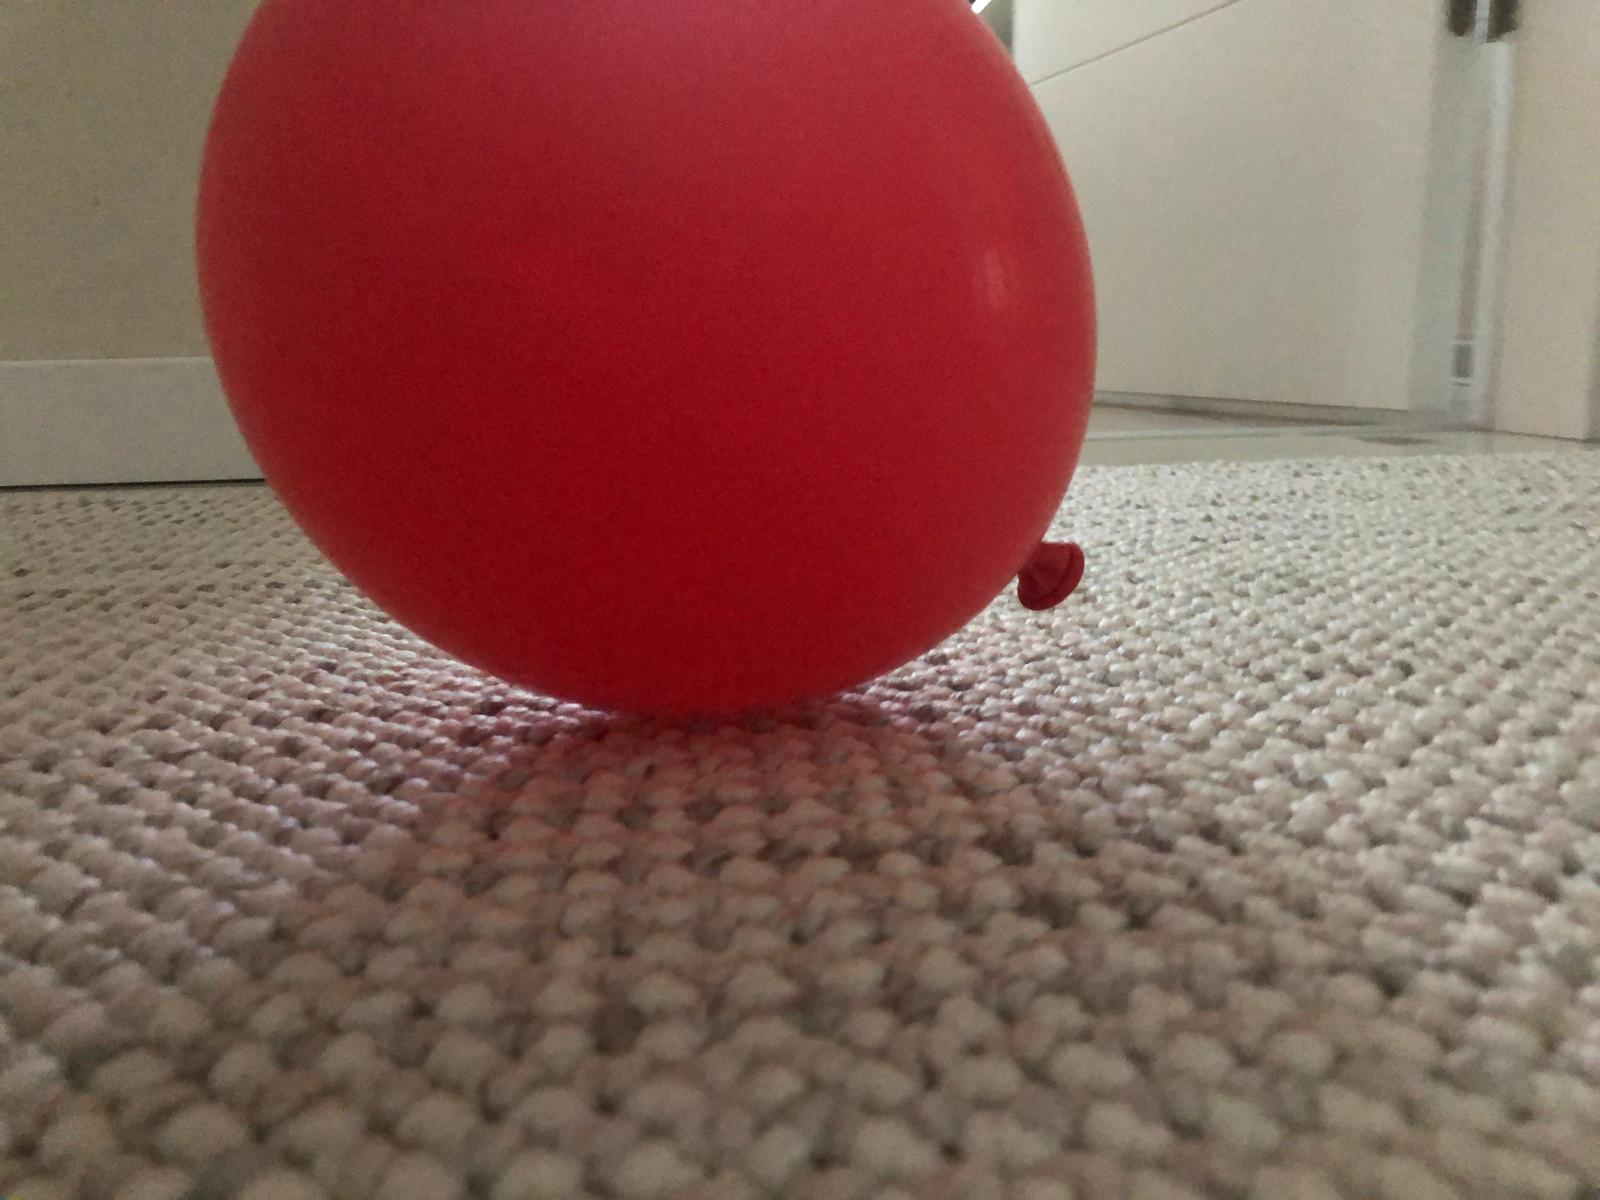red: (188, 0, 1104, 713)
